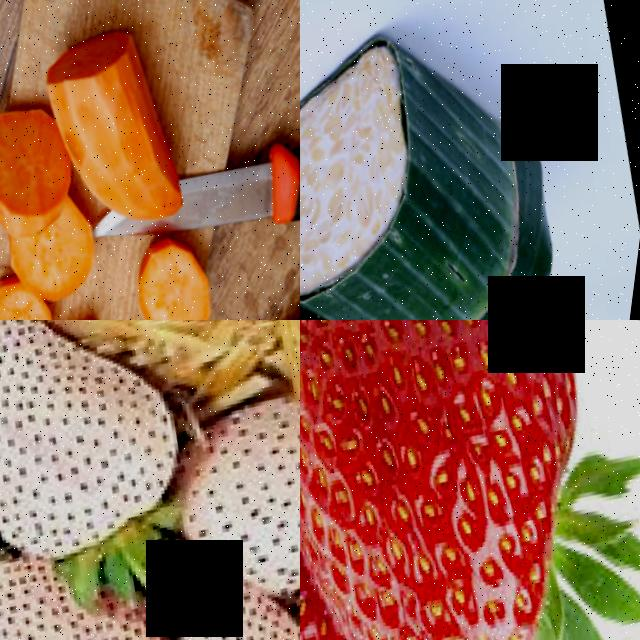strawberry: (300, 320, 640, 640), (0, 320, 211, 567), (152, 359, 300, 597), (0, 557, 204, 640)
sweet potato: (132, 226, 242, 320)
tempeh: (300, 33, 459, 305)
